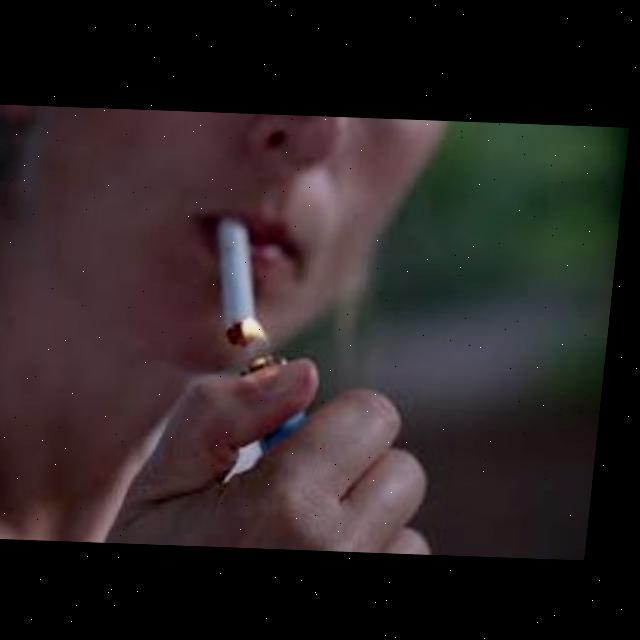cigarette: (211, 214, 276, 346)
